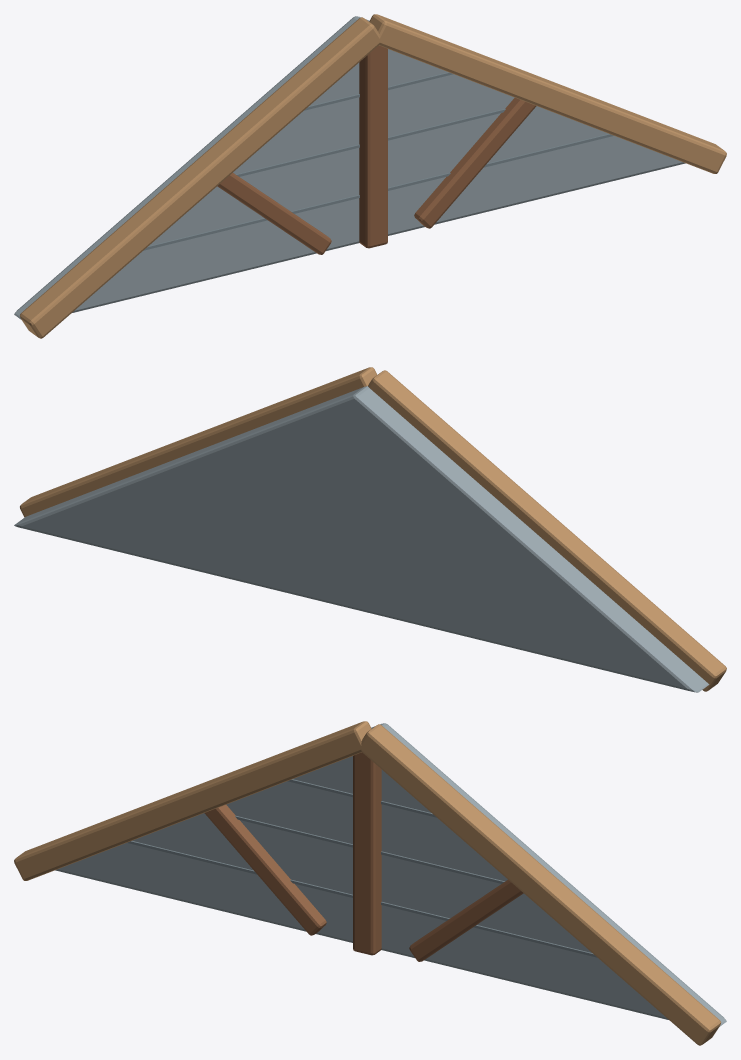
File: gable_stone_4m.glb
The picture shows the model from 3 angles, top to bottom: view 1: azimuth 30°, elevation 25°; view 2: azimuth 150°, elevation 25°; view 3: azimuth 330°, elevation 25°; orthographic projection.
Visible parts, largest first — view 1: gable_stone_4m; view 2: gable_stone_4m; view 3: gable_stone_4m.
Part boxes in pixels (<box>): gable_stone_4m: <box>14,14,726,338</box>; gable_stone_4m: <box>14,367,726,692</box>; gable_stone_4m: <box>14,721,726,1045</box>.
Bounding box in the file's own units: 4.05 × 1.3 × 0.255.
